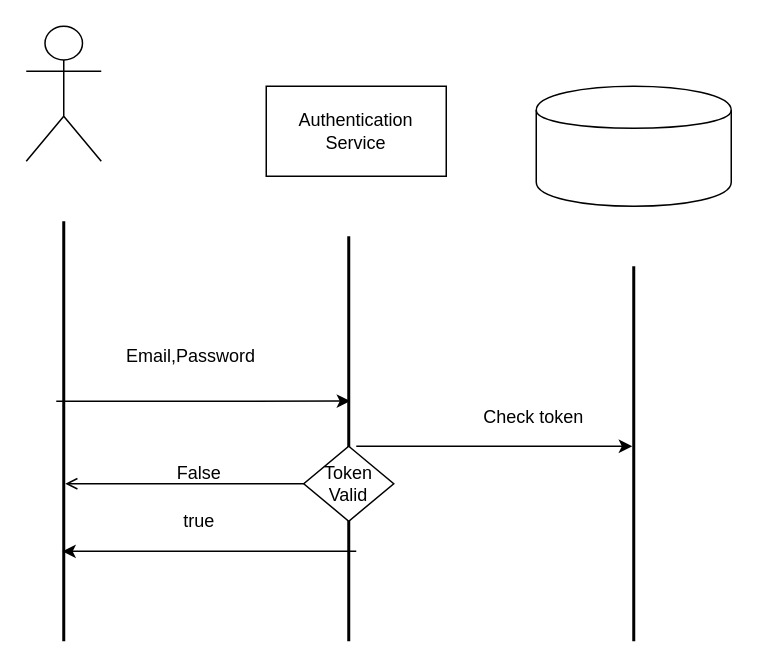
The diagram is 758 pixels wide and 669 high, and some of its shapes have lost their labels. Here are the shapes that lost their labels. From the top down, the box of each, then its label:
(25, 25, 101, 161): User
(535, 85, 731, 206): Auth DBA
